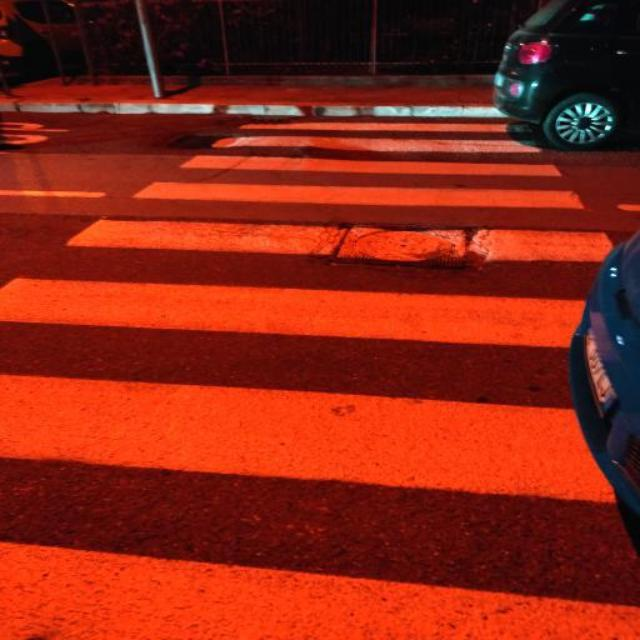sidewalk: (0, 106, 640, 640)
